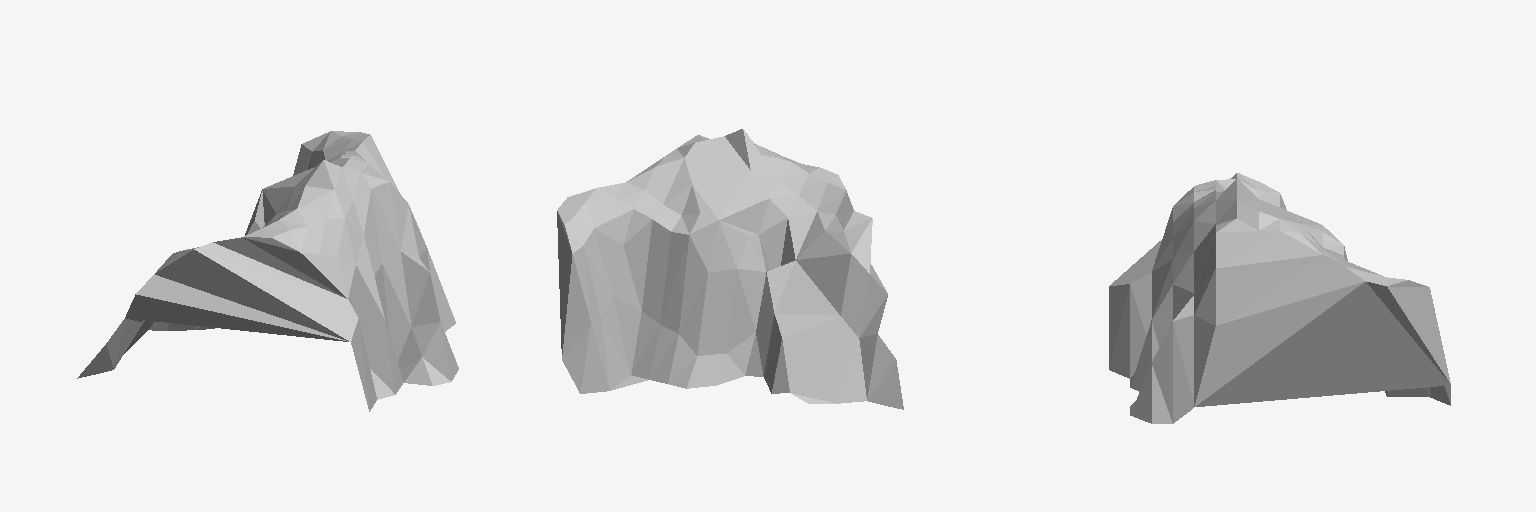
File: tree_59.obj
3 renders of one model, left to right at view 1: azimuth 30°, elevation 25°; view 2: azimuth 150°, elevation 25°; view 3: azimuth 270°, elevation 25°, orthographic.
Parts seen in each view (by area): view 1: tree_59; view 2: tree_59; view 3: tree_59.
Boxes of the visible parts, <box> form: tree_59: <box>77,131,458,411</box>; tree_59: <box>557,129,903,409</box>; tree_59: <box>1109,173,1450,423</box>.
Bounding box in the file's own units: 17 × 10.38 × 16.